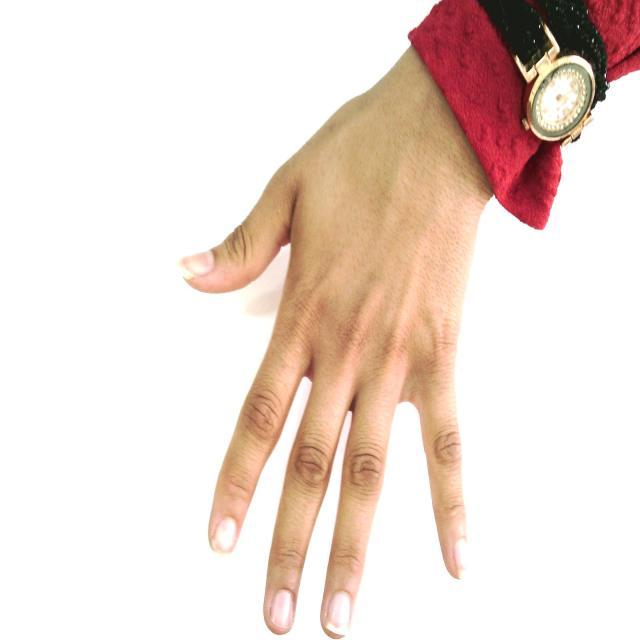Fingernail: (176, 251, 216, 280), (325, 592, 351, 634), (212, 518, 236, 554), (271, 592, 294, 628), (455, 541, 470, 580)
